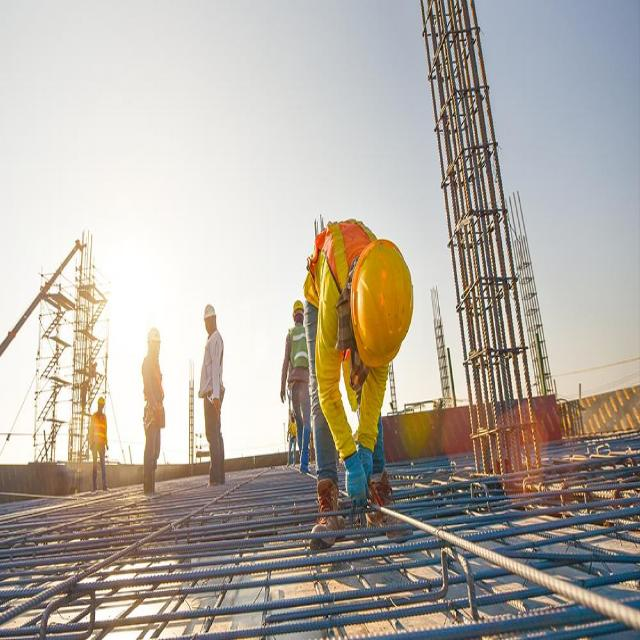Reflective-Jacket: (287, 325, 310, 381), (88, 410, 109, 448)
Safety-Helmet: (349, 236, 417, 372), (145, 324, 163, 346), (202, 301, 218, 321), (292, 298, 304, 314), (97, 393, 107, 407)
